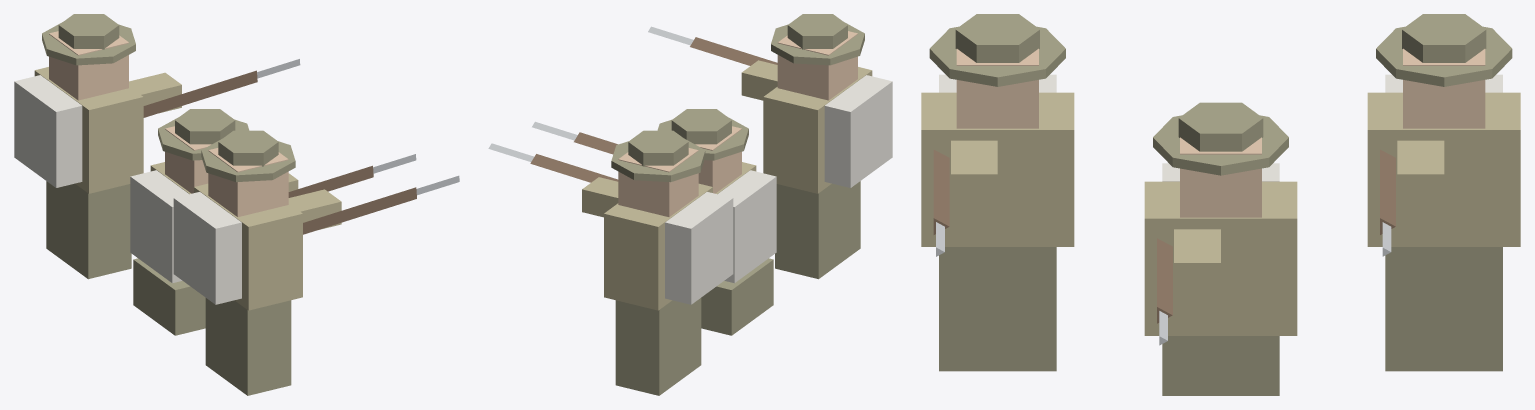
The model's file is formation_front.glb.
The picture shows the model from 3 angles, left to right: view 1: azimuth 30°, elevation 25°; view 2: azimuth 150°, elevation 25°; view 3: azimuth 270°, elevation 25°; orthographic projection. The views are drawn at different scales.
Parts seen in each view (by area): view 1: industrial_formation_front; view 2: industrial_formation_front; view 3: industrial_formation_front.
Boxes of the visible parts, <box> form: industrial_formation_front: <box>14,14,459,395</box>; industrial_formation_front: <box>488,14,892,395</box>; industrial_formation_front: <box>921,14,1520,395</box>.
Bounding box in the file's own units: 0.7531 × 0.6017 × 0.9995.
